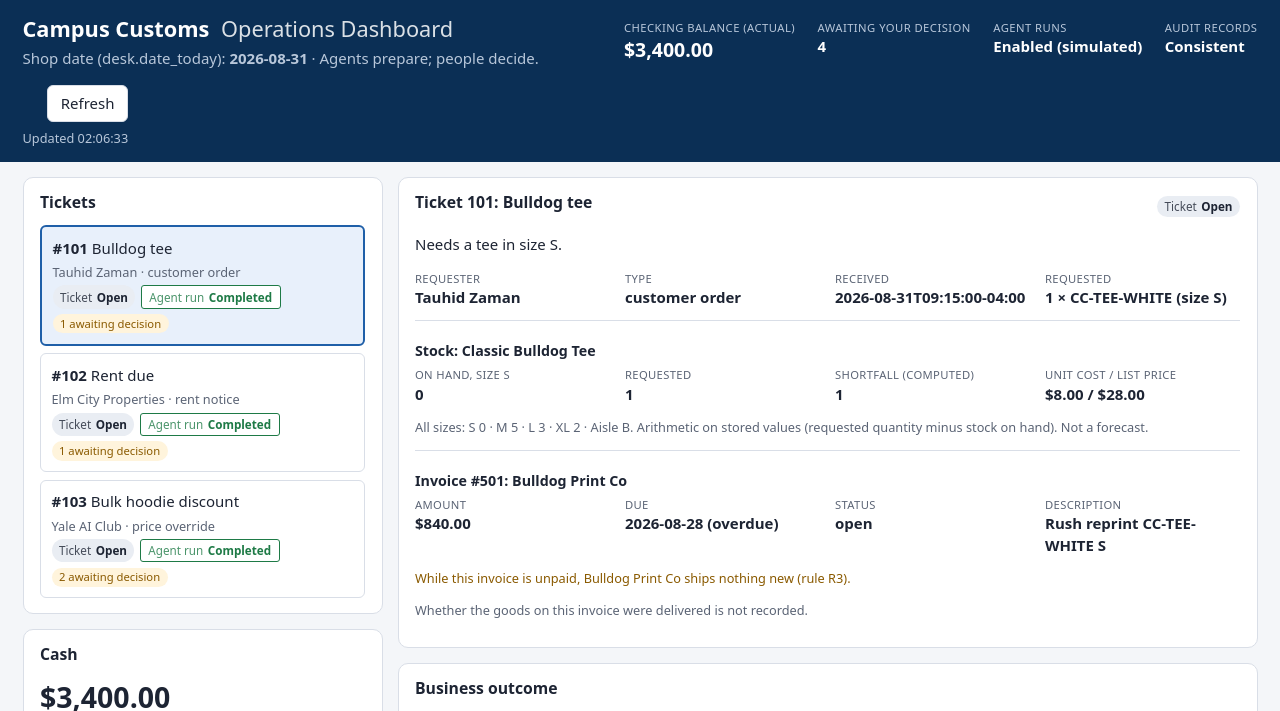
Test case: human decisions › warns that undecided proposals block resolution and shows the backend refusal
Click the button with aria-label "Ticket 103: Bulk hoodie discount, open".
click(202, 539)  # box [40,480,365,598]
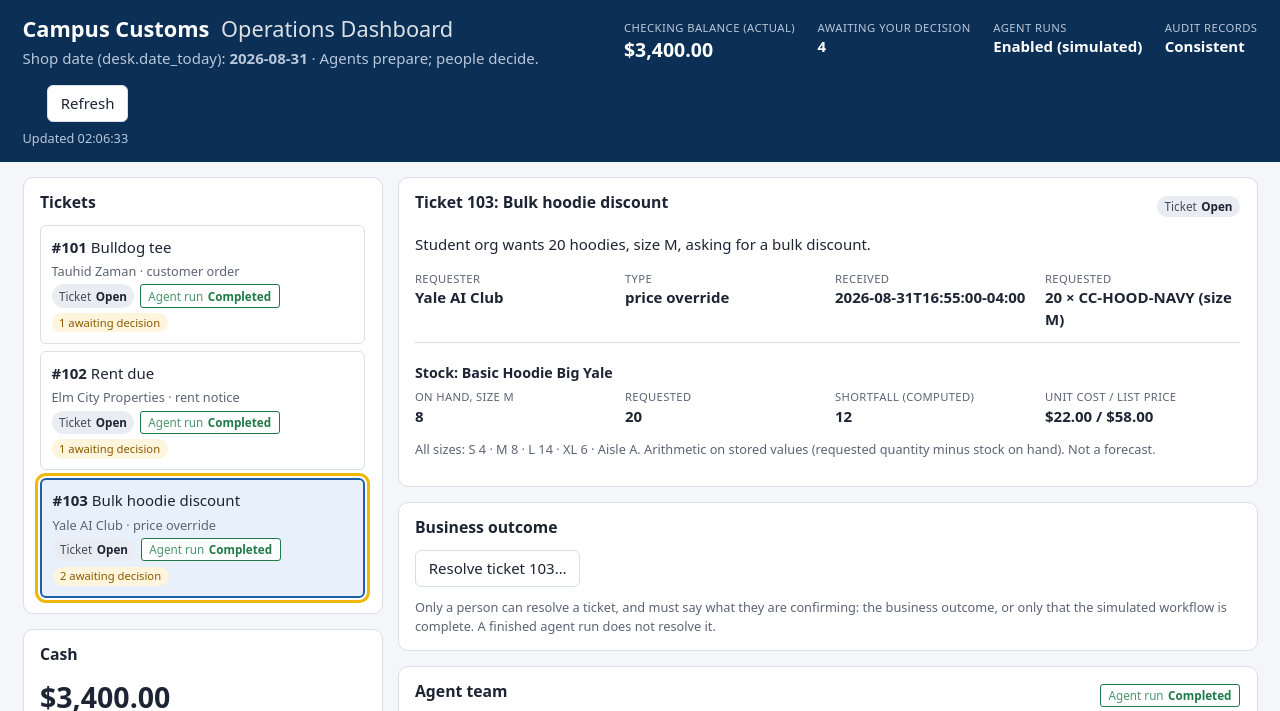
Click the button "Resolve ticket 103…".
click(498, 569)  # box [415,550,580,587]
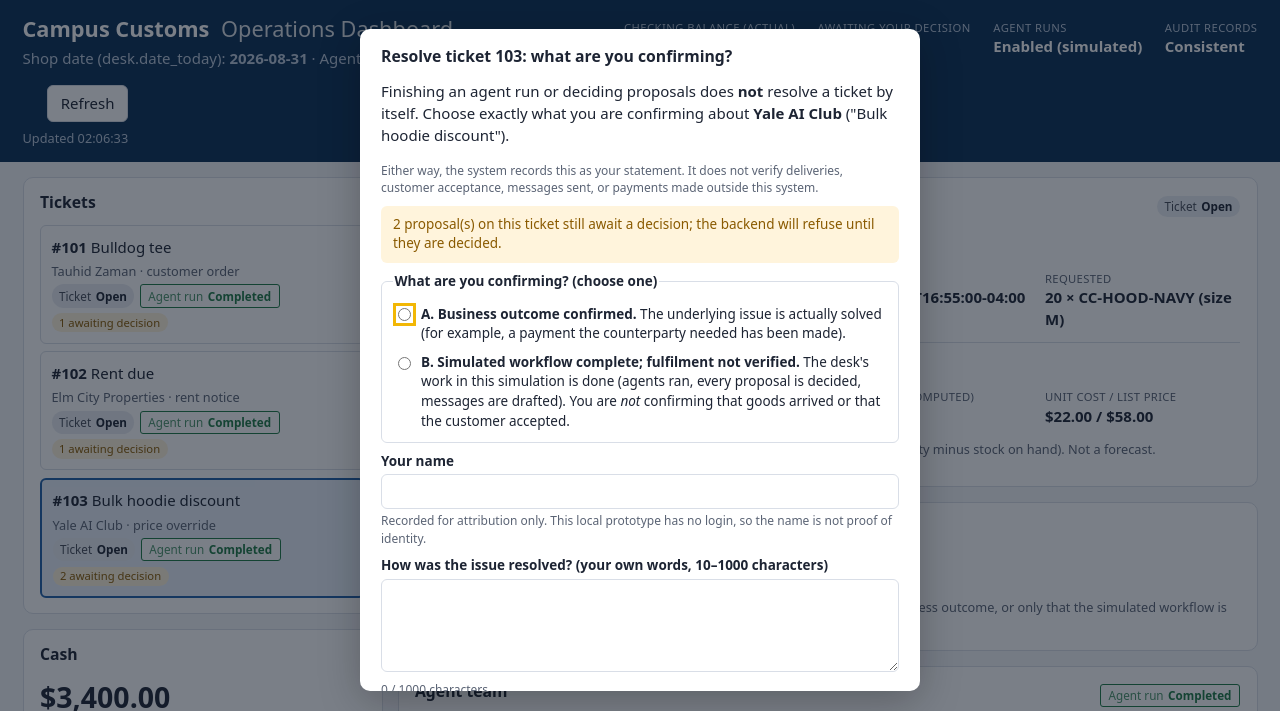
Expected: the text "2 proposal(s) on this ticket still await a decision" is shown, [381,206,899,263]
Click the radio button labelled "A. Business outcome confirmed".
click(404, 315)  # box [398,308,410,322]
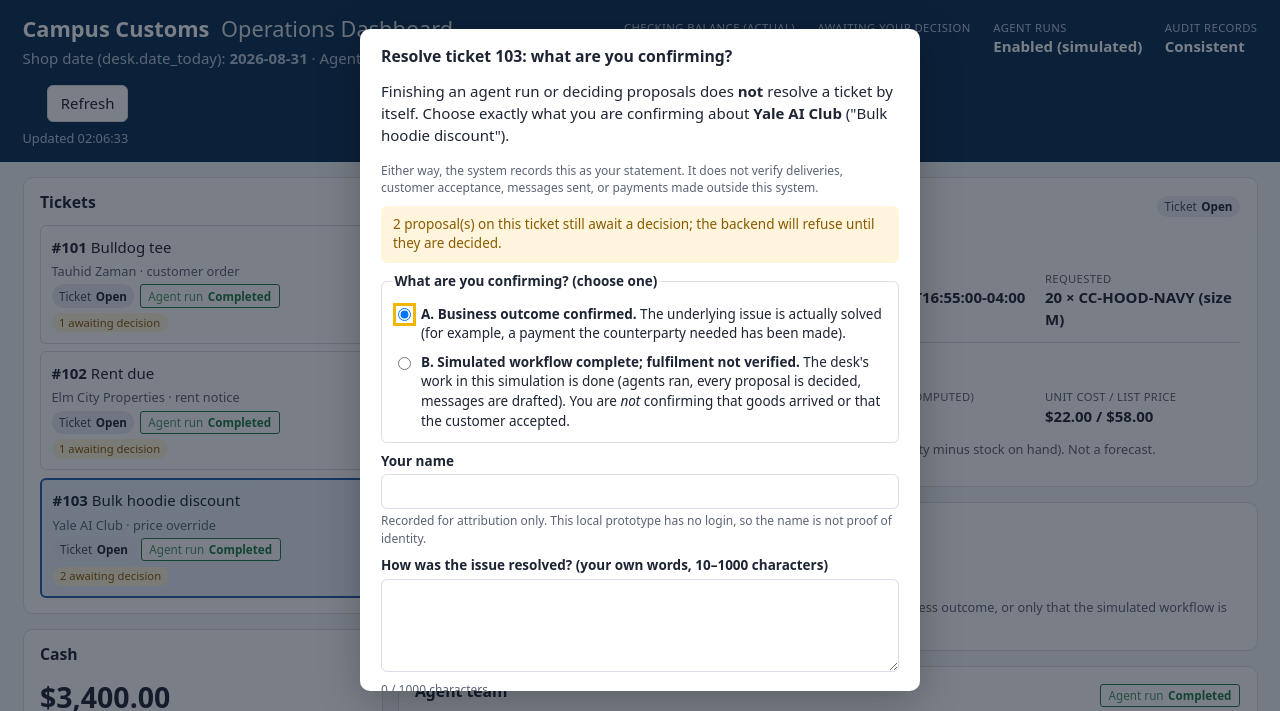
Type "Dr. Ryan" into the field labelled "Your name".
click(640, 492); type("Dr. Ryan")  # box [381,474,899,509]
Type "Customer accepted the quote by email" into the text box labelled "How was the issue resolved".
click(640, 625); type("Customer accepted the quote by email")  # box [381,578,899,672]
(page scrolled)
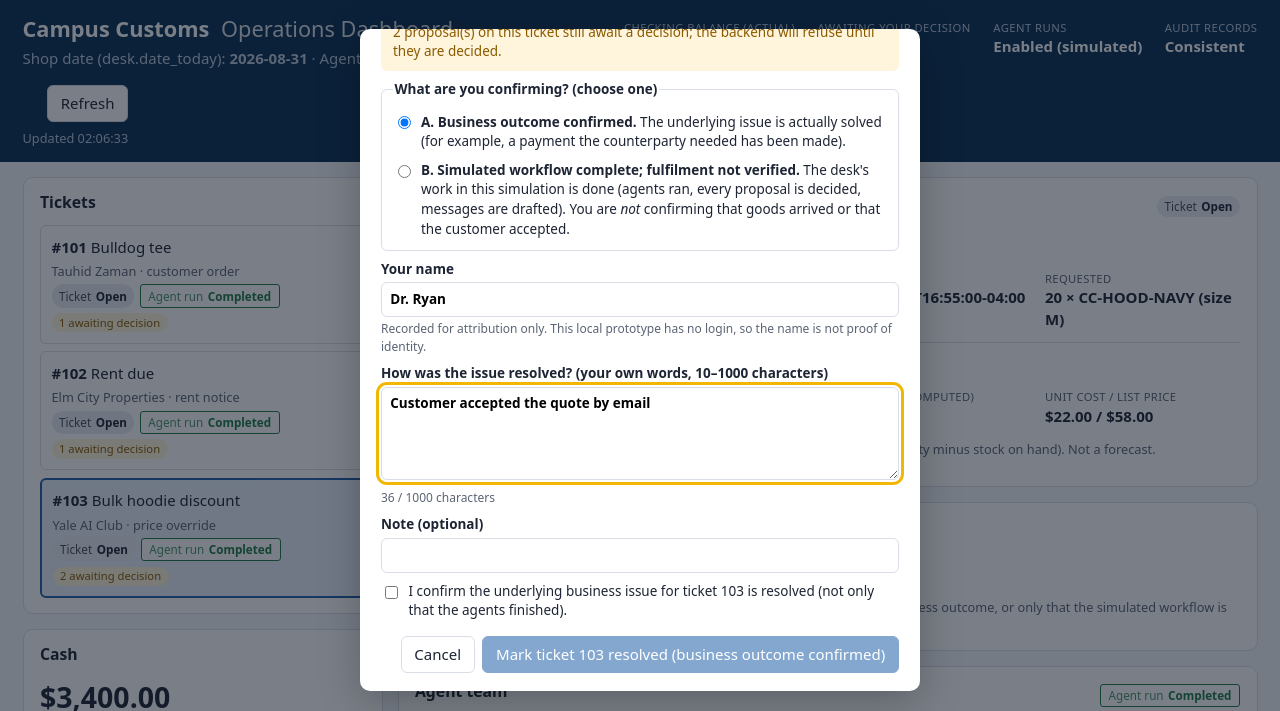
Click the checkbox.
click(392, 592)  # box [385,586,398,599]
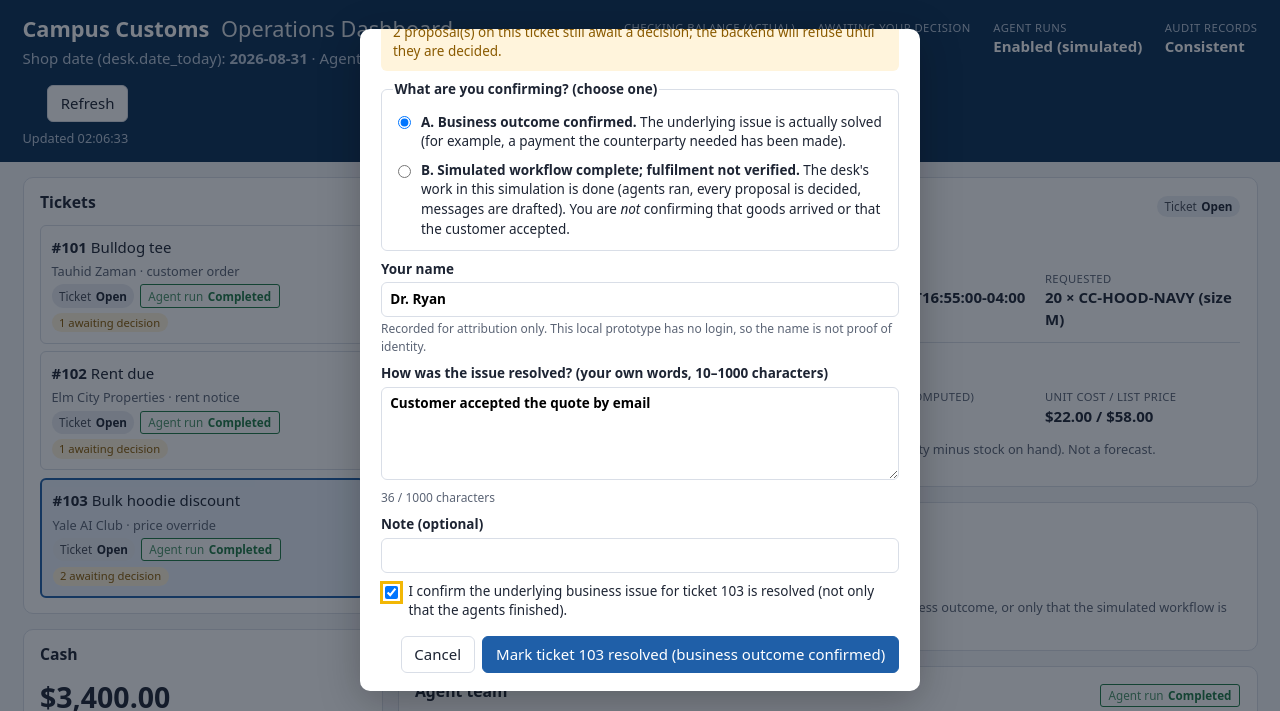
Click the button "Mark ticket 103 resolved (business outcome confirmed)".
click(691, 655)  # box [482,636,899,673]
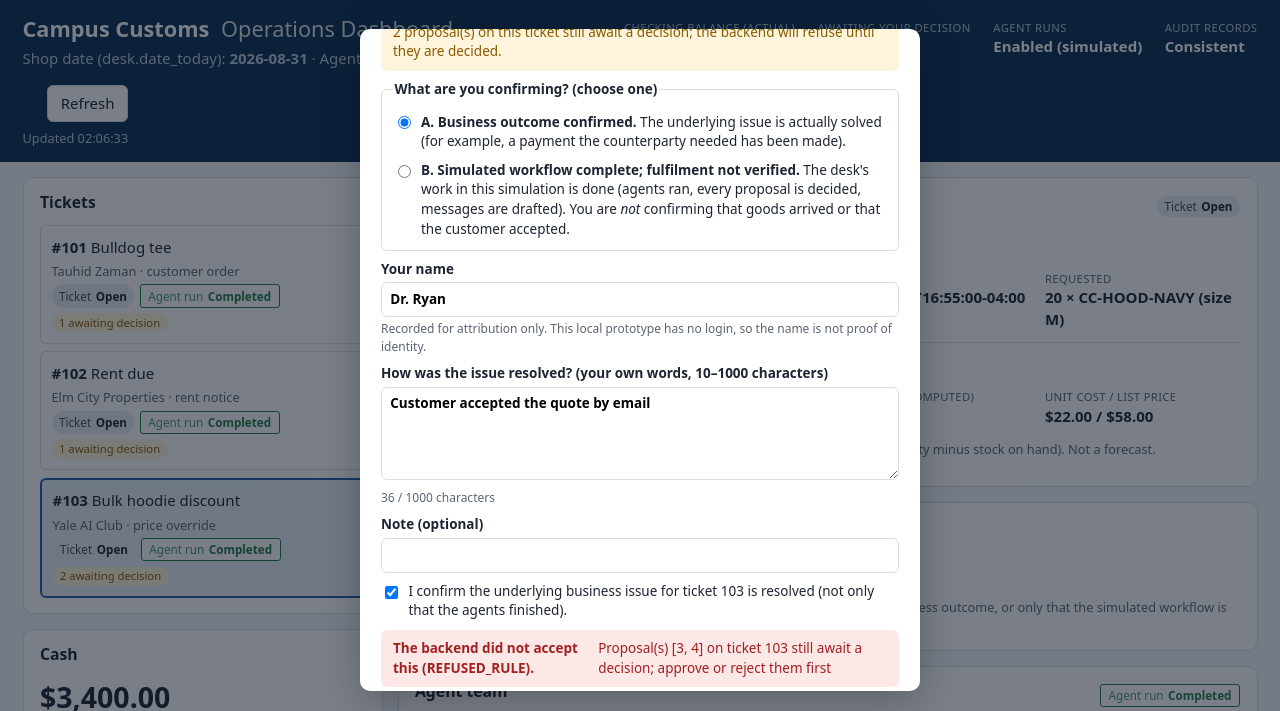
Expected: the message that starts with "The backend did not accept this (" shows "still await a decision", [598,639,862,677]
